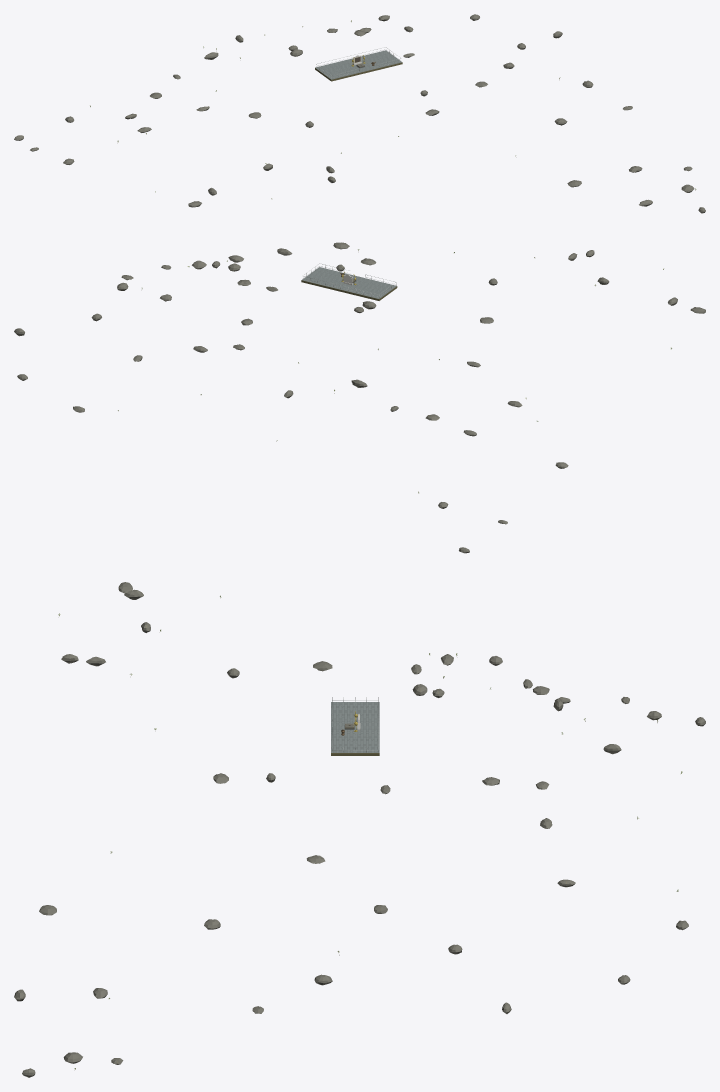
File: nui-sam-mid.glb
3 views of the same model, one above another, from view 1: azimuth 30°, elevation 25°; view 2: azimuth 150°, elevation 25°; view 3: azimuth 270°, elevation 25° (orthographic). The views are drawn at different scales.
Visible parts, largest first — view 1: nui-sam-mid; view 2: nui-sam-mid; view 3: nui-sam-mid.
Part boxes in pixels (box(x1,y1,x2,y2)): nui-sam-mid: box(14, 14, 705, 213); nui-sam-mid: box(14, 242, 705, 553); nui-sam-mid: box(14, 582, 705, 1077).
Size of the model in its own units: 151 by 37.97 by 122.
1 material, 1 textured.
